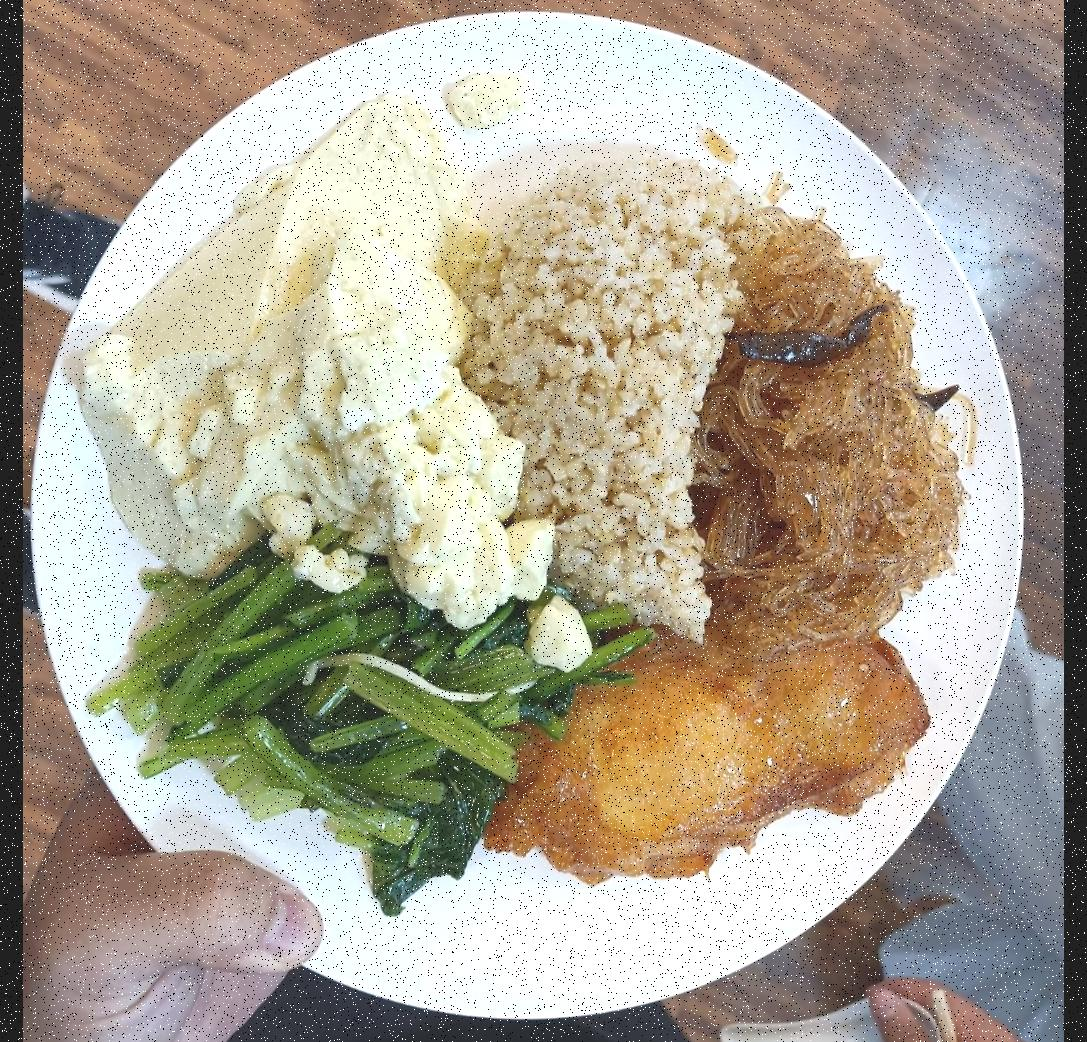big fried chicken leg: (44, 10, 1036, 1038)
box: (460, 134, 736, 652)
braised fish fillet: (76, 73, 552, 622), (98, 550, 622, 916), (708, 205, 966, 632)
braised pork: (490, 628, 932, 892)
